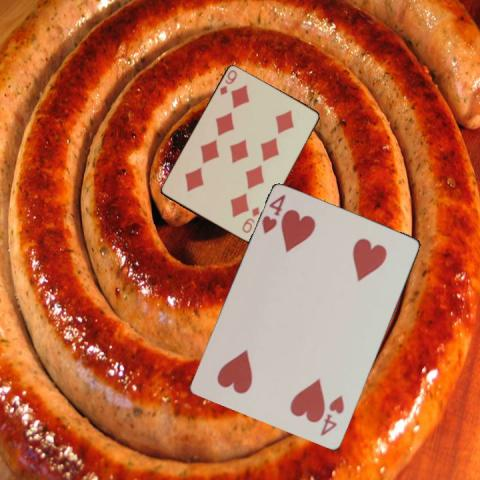4h: (317, 393, 346, 437), (259, 191, 287, 236)
9d: (240, 204, 262, 235), (216, 66, 238, 96)
